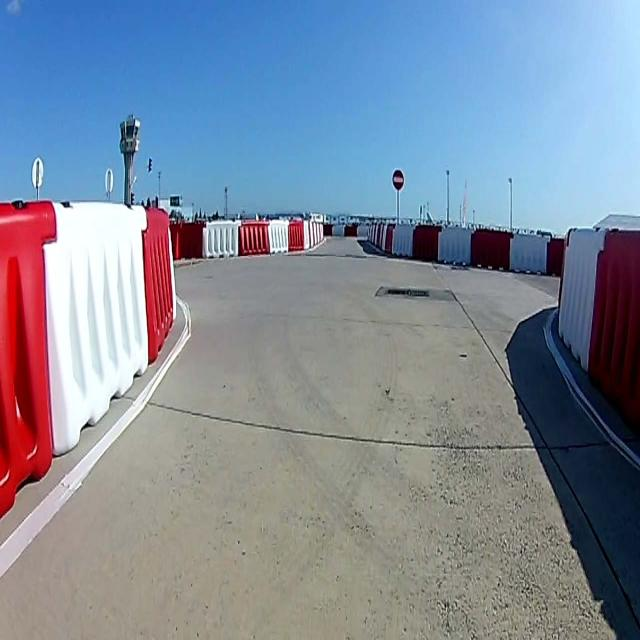girisyok: (392, 171, 404, 190)
